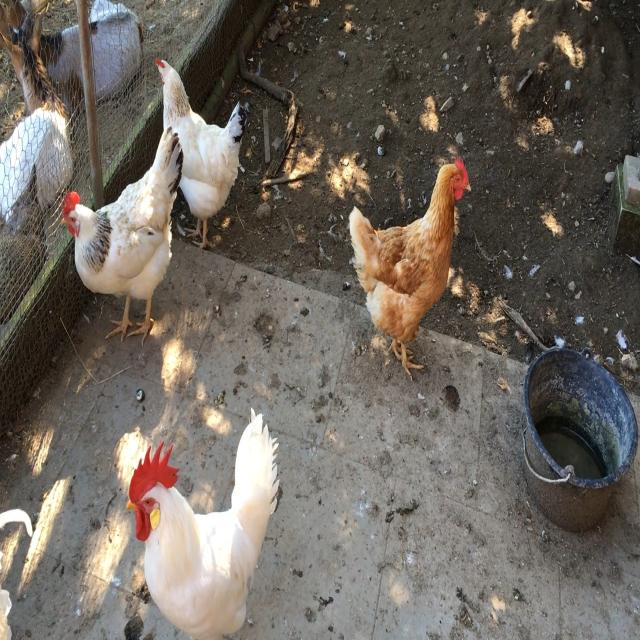chicken: (110, 401, 302, 640), (335, 141, 483, 394), (53, 128, 180, 354), (153, 42, 263, 238)
